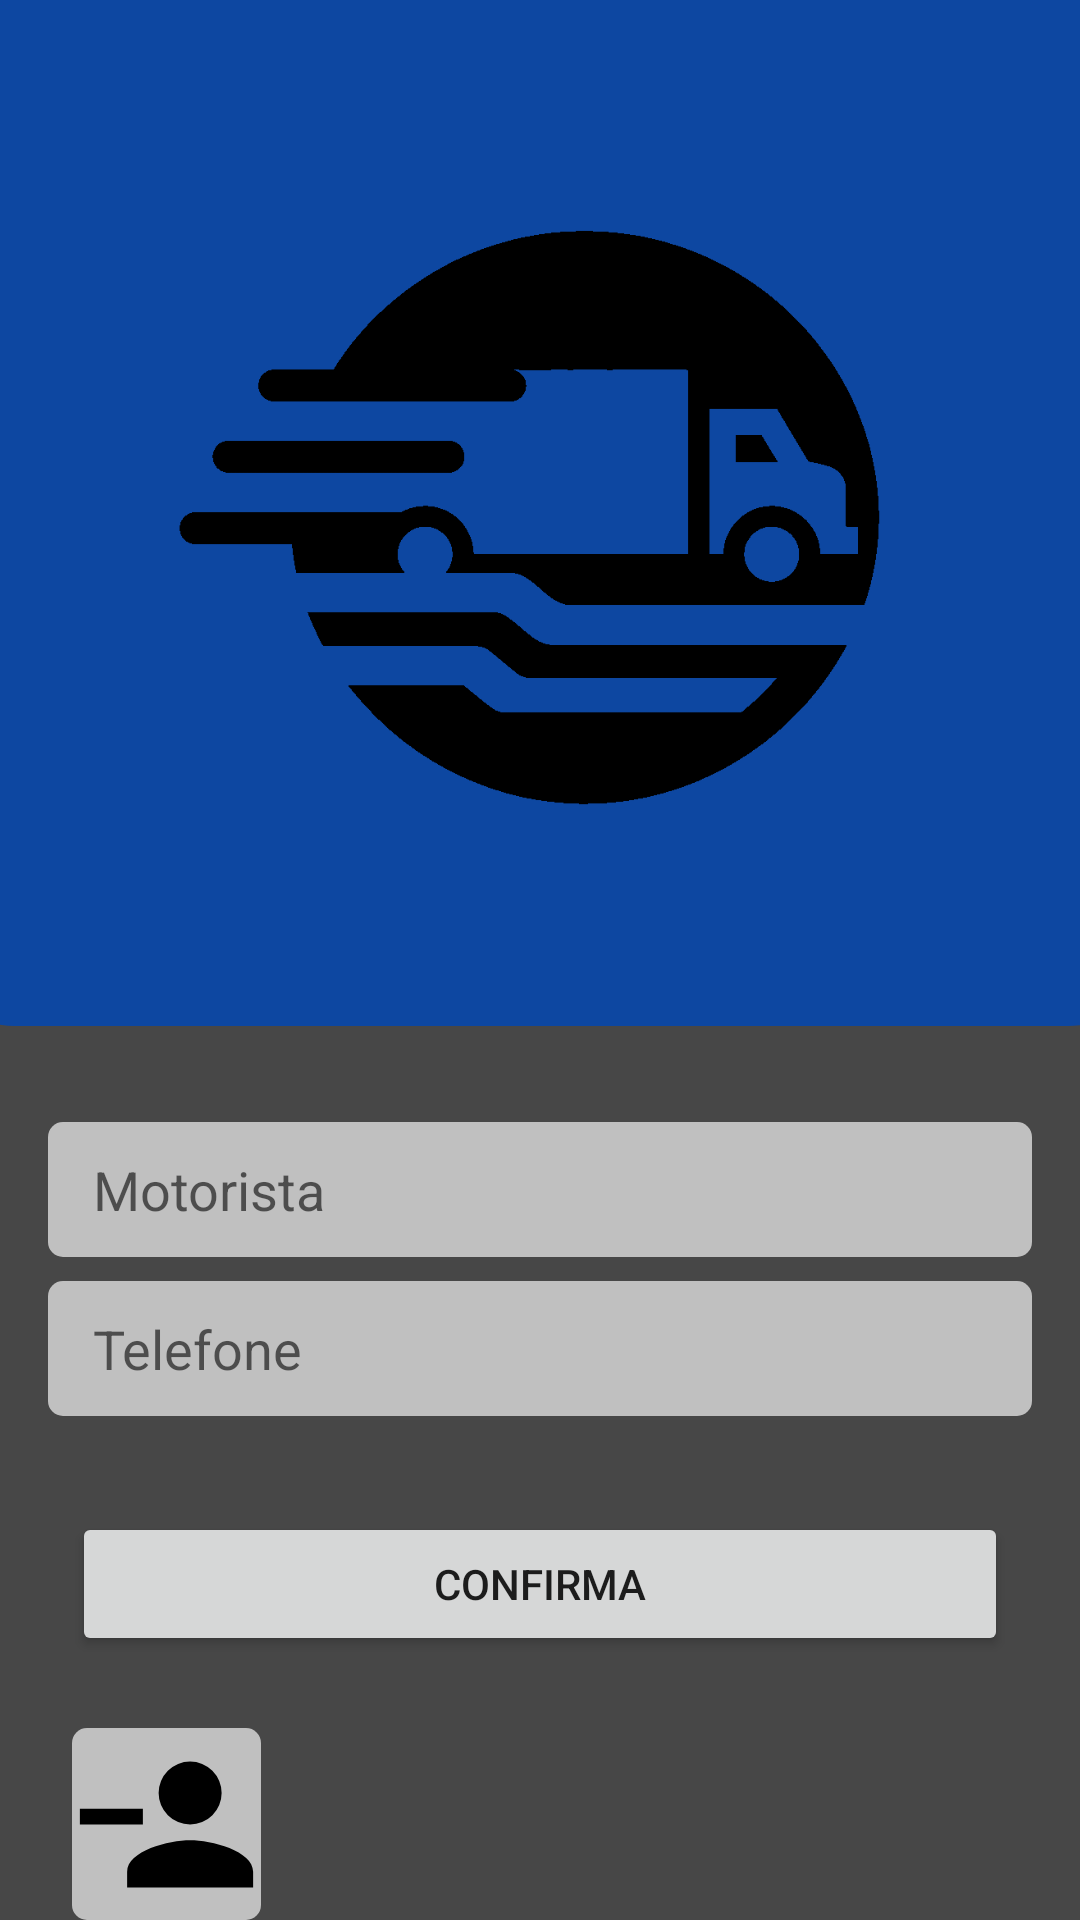

Icon click points for this 1080px x 1920px phone screenshot, format point (x, y):
singout: point (166, 1824)
